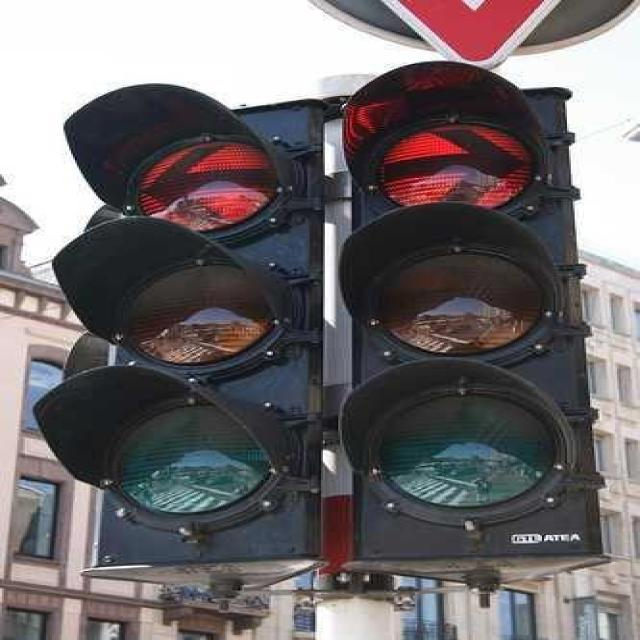Traffic Light -Red-: (317, 38, 579, 575), (38, 63, 312, 540)
